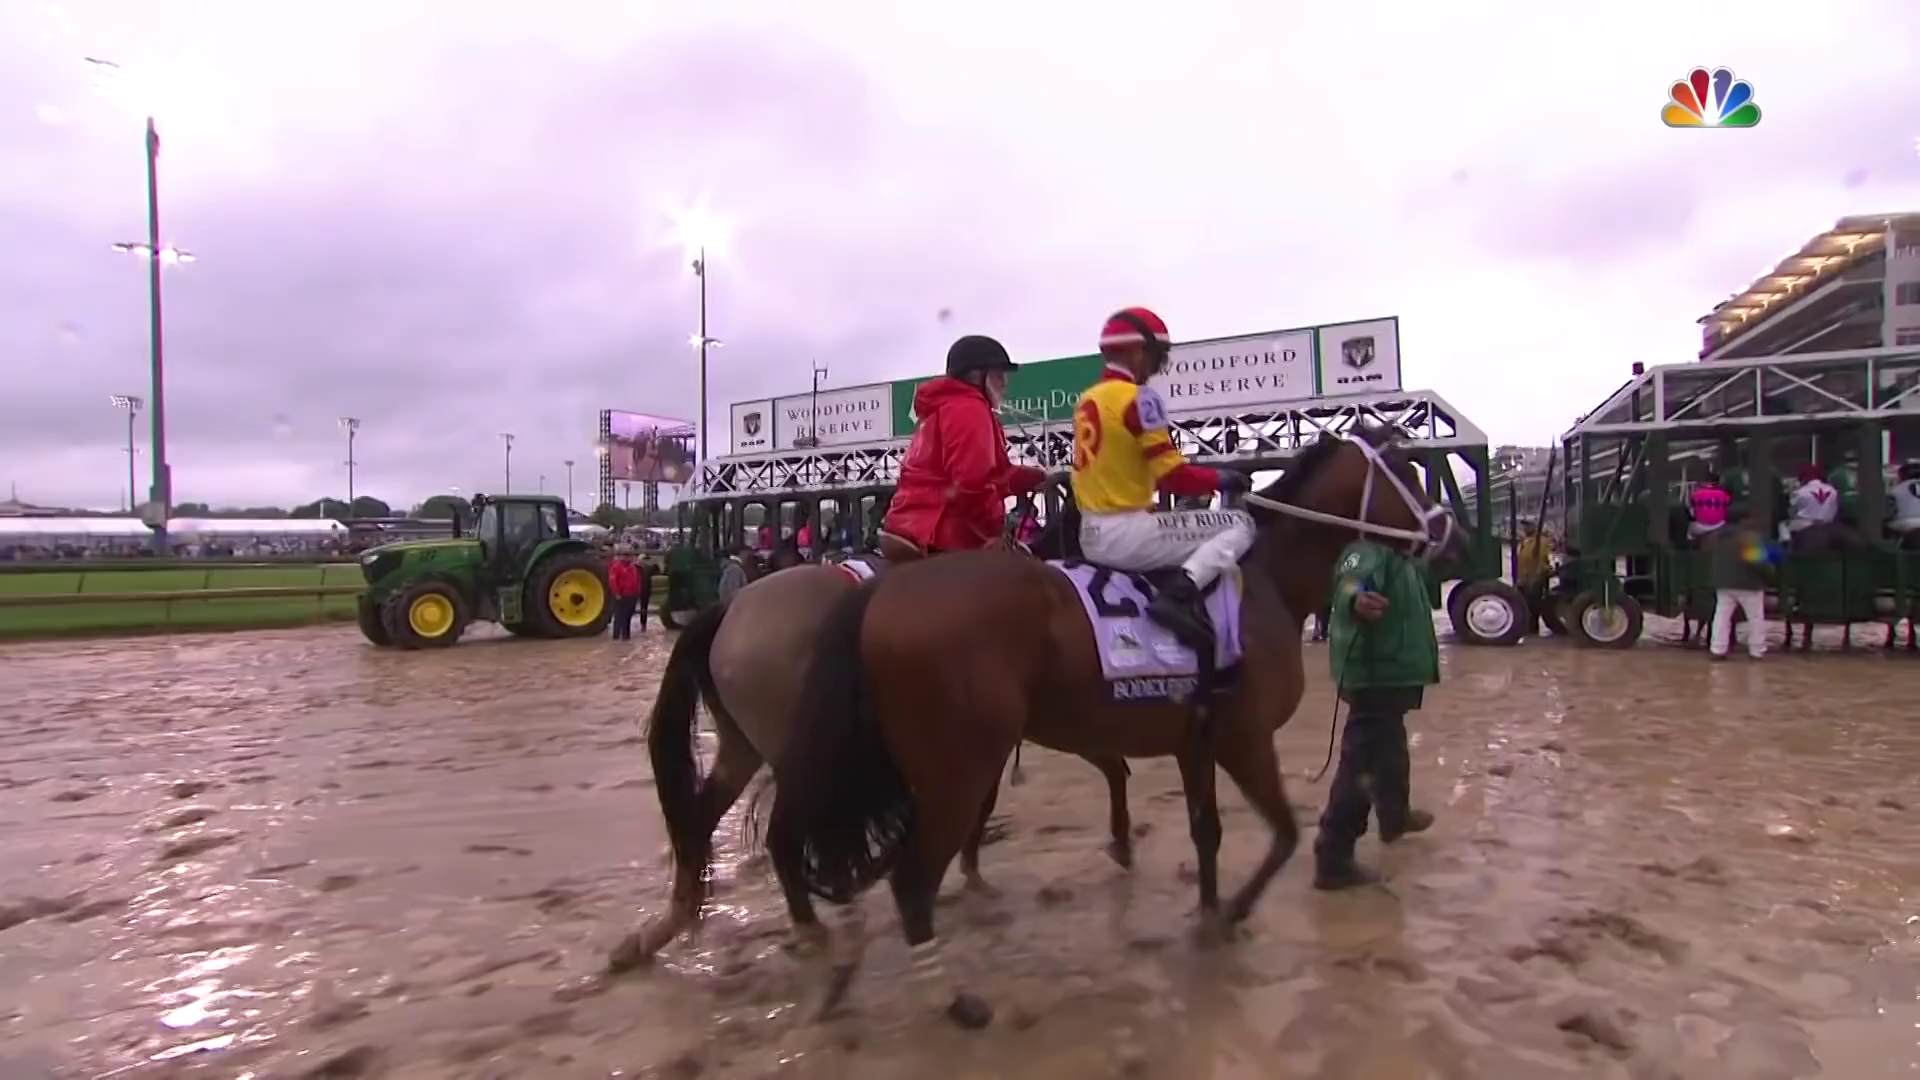jockey: (1067, 307, 1269, 654), (876, 331, 1046, 603)
